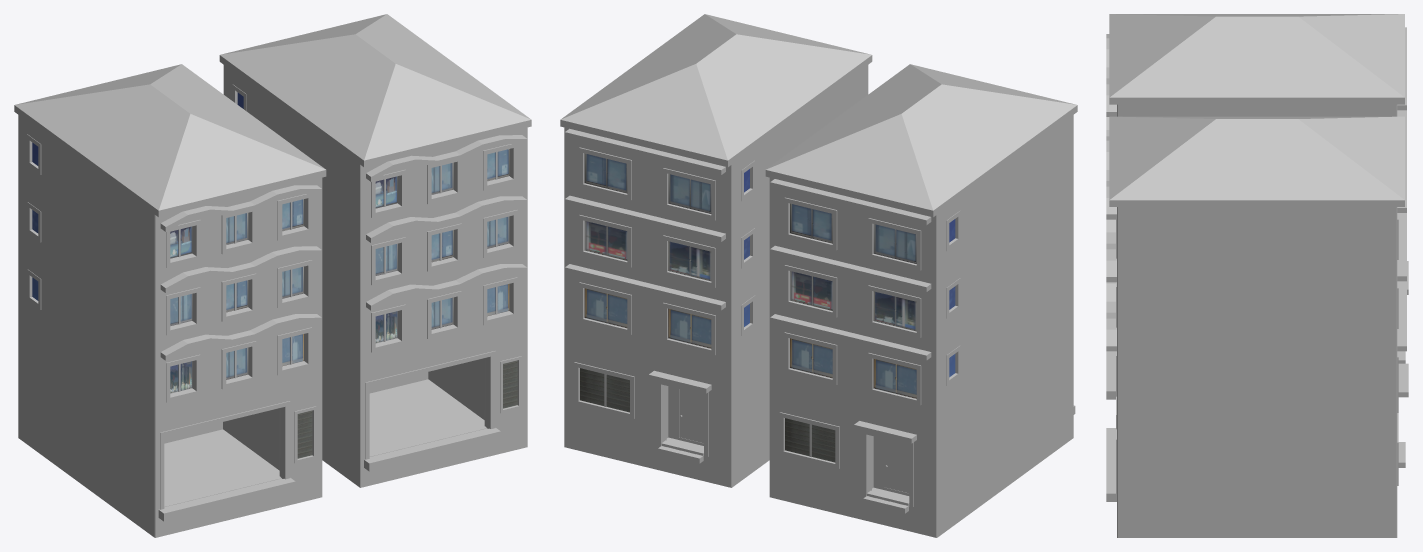
The model's file is bldg_mall_22b.fbx.
The picture shows the model from 3 angles, left to right: view 1: azimuth 30°, elevation 25°; view 2: azimuth 150°, elevation 25°; view 3: azimuth 270°, elevation 25°; orthographic projection. The views are drawn at different scales.
Parts seen in each view (by area): view 1: bldg_mall_22b, bldg_mall_22b.001; view 2: bldg_mall_22b, bldg_mall_22b.001; view 3: bldg_mall_22b.001, bldg_mall_22b.
Boxes of the visible parts, bbox=[...] form: bldg_mall_22b: bbox=[14, 64, 326, 537]; bldg_mall_22b.001: bbox=[219, 14, 531, 487]; bldg_mall_22b: bbox=[765, 64, 1077, 537]; bldg_mall_22b.001: bbox=[560, 14, 872, 487]; bldg_mall_22b.001: bbox=[1106, 116, 1408, 537]; bldg_mall_22b: bbox=[1106, 14, 1408, 399].
Size of the model in its own units: 15.77 by 14.87 by 10.8.
